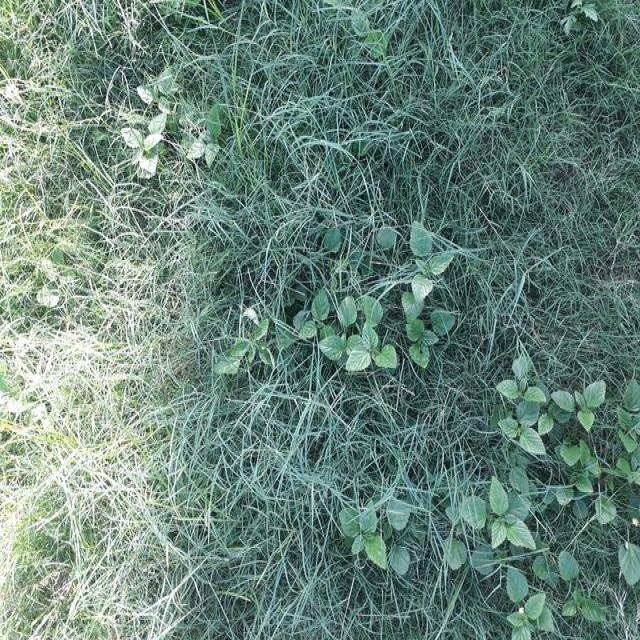weed: (280, 201, 458, 378), (490, 356, 640, 496), (454, 481, 565, 640), (110, 58, 222, 175), (332, 496, 413, 581), (223, 290, 280, 381)
